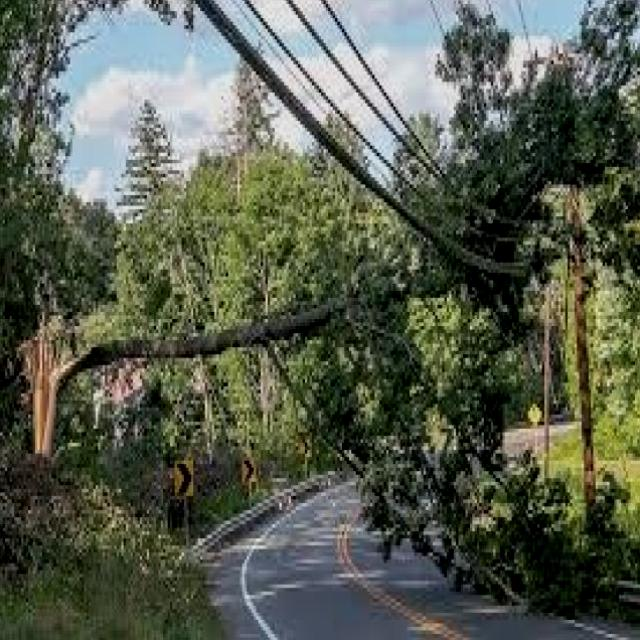fallen_object: (5, 251, 441, 463)
